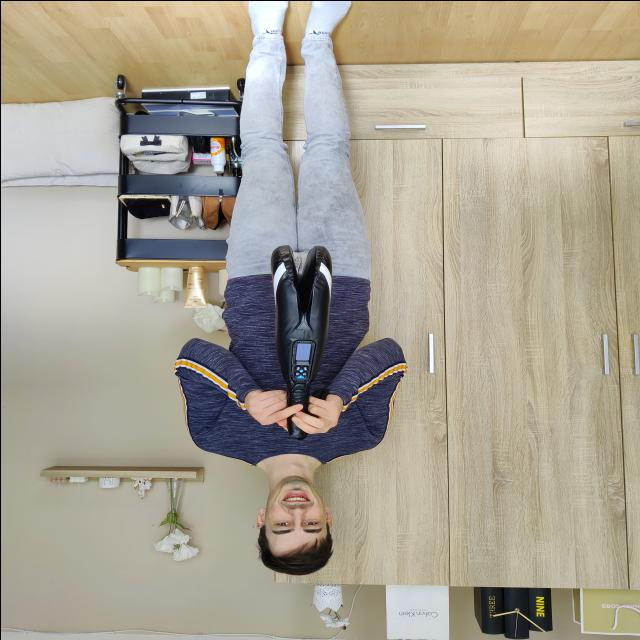paddle: (268, 243, 336, 440)
